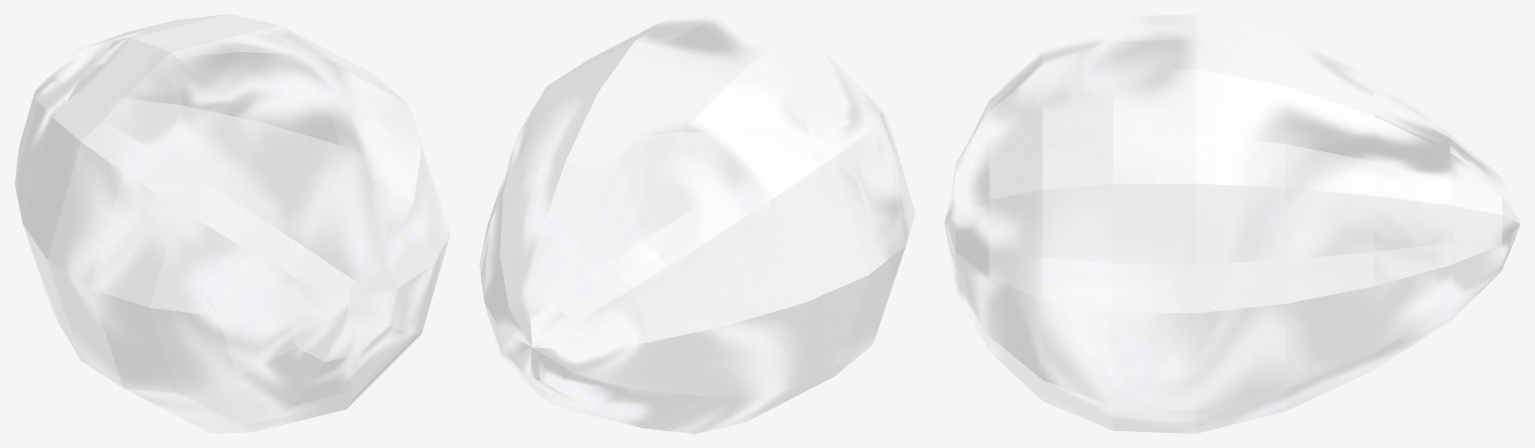
Rendered from fx_c100_proj_trail__fx_fbx_sphere_03.glb.
3 renders of one model, left to right at view 1: azimuth 30°, elevation 25°; view 2: azimuth 150°, elevation 25°; view 3: azimuth 270°, elevation 25°, orthographic. The views are drawn at different scales.
Visible parts, largest first — view 1: fx_c100_proj_trail; view 2: fx_c100_proj_trail; view 3: fx_c100_proj_trail.
Part boxes in pixels (x1,y1,x2,y2): fx_c100_proj_trail: [14, 14, 450, 433]; fx_c100_proj_trail: [479, 18, 915, 433]; fx_c100_proj_trail: [944, 14, 1520, 433].
Size of the model in its own units: 0.4584 by 0.436 by 0.6245.
1 material, 1 textured.
